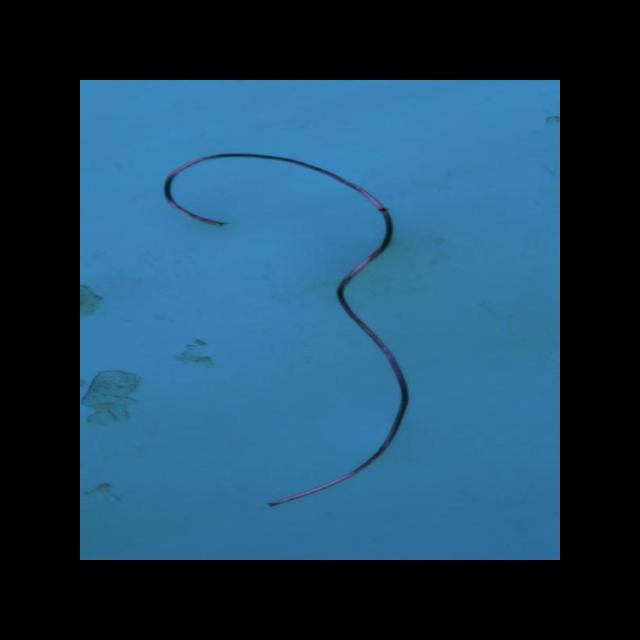Fibre: (160, 153, 408, 507)
